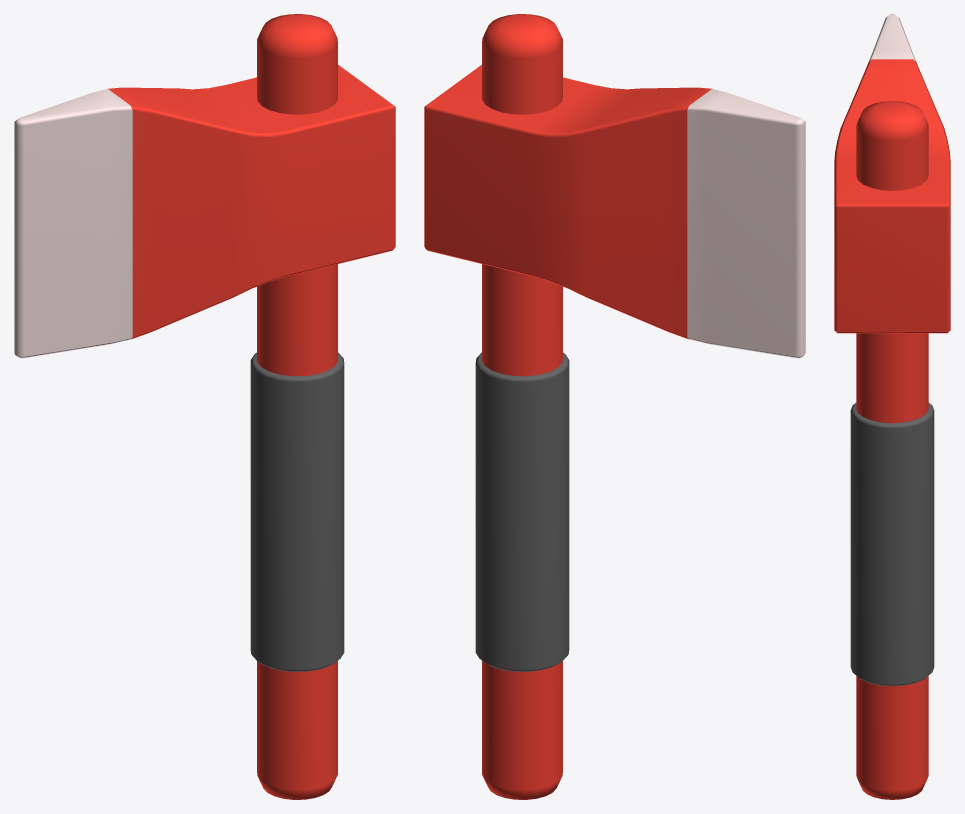
Rendered from Public_11_Axe_1.glb.
3 views of the same model, side by side, from view 1: azimuth 30°, elevation 25°; view 2: azimuth 150°, elevation 25°; view 3: azimuth 270°, elevation 25° (orthographic). The views are drawn at different scales.
Parts seen in each view (by area): view 1: Public_11_Axe_1; view 2: Public_11_Axe_1; view 3: Public_11_Axe_1.
Part boxes in pixels (x1,y1,x2,y2): Public_11_Axe_1: (14,14,395,799); Public_11_Axe_1: (424,14,805,799); Public_11_Axe_1: (834,14,950,799).
Bounding box in the file's own units: 0.4778 × 1 × 0.1546.
Materials: 1 (1 with a texture image).
